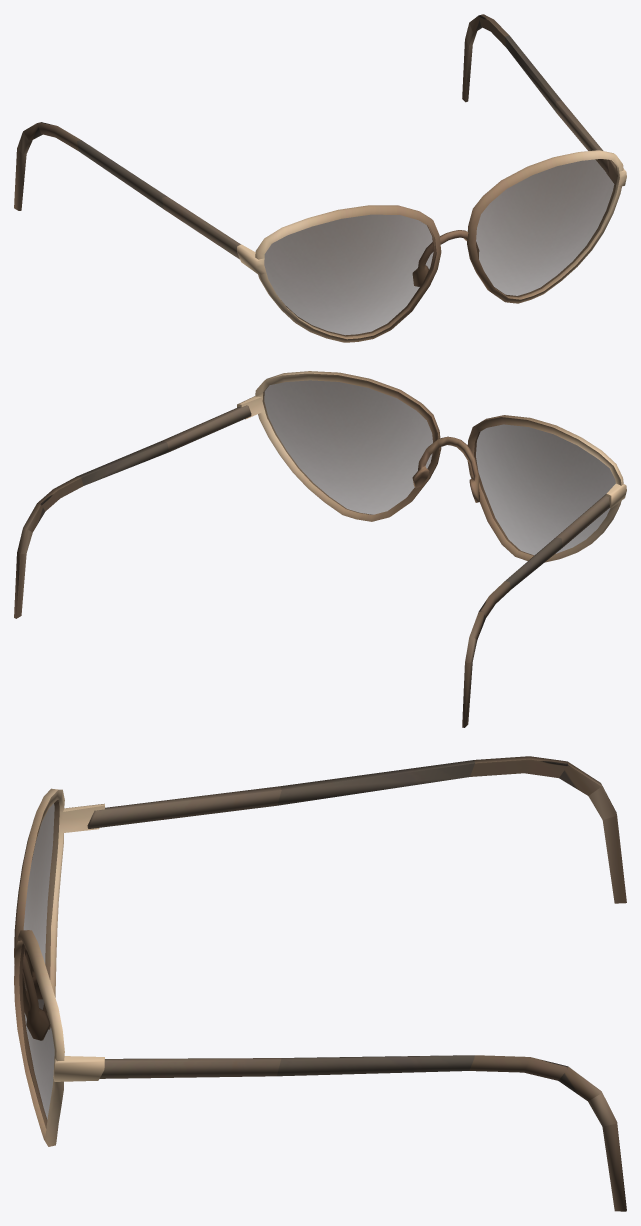
3 renders of one model, top to bottom at view 1: azimuth 30°, elevation 25°; view 2: azimuth 150°, elevation 25°; view 3: azimuth 270°, elevation 25°, orthographic. The views are drawn at different scales.
Visible parts, largest first — view 1: Wolf3D_Glasses; view 2: Wolf3D_Glasses; view 3: Wolf3D_Glasses.
Part boxes in pixels (x1,y1,x2,y2): Wolf3D_Glasses: (14, 14, 626, 342); Wolf3D_Glasses: (14, 371, 626, 727); Wolf3D_Glasses: (14, 756, 626, 1211).
Size of the model in its own units: 0.1625 by 0.0475 by 0.1352.
Materials: 1 (1 with a texture image).
